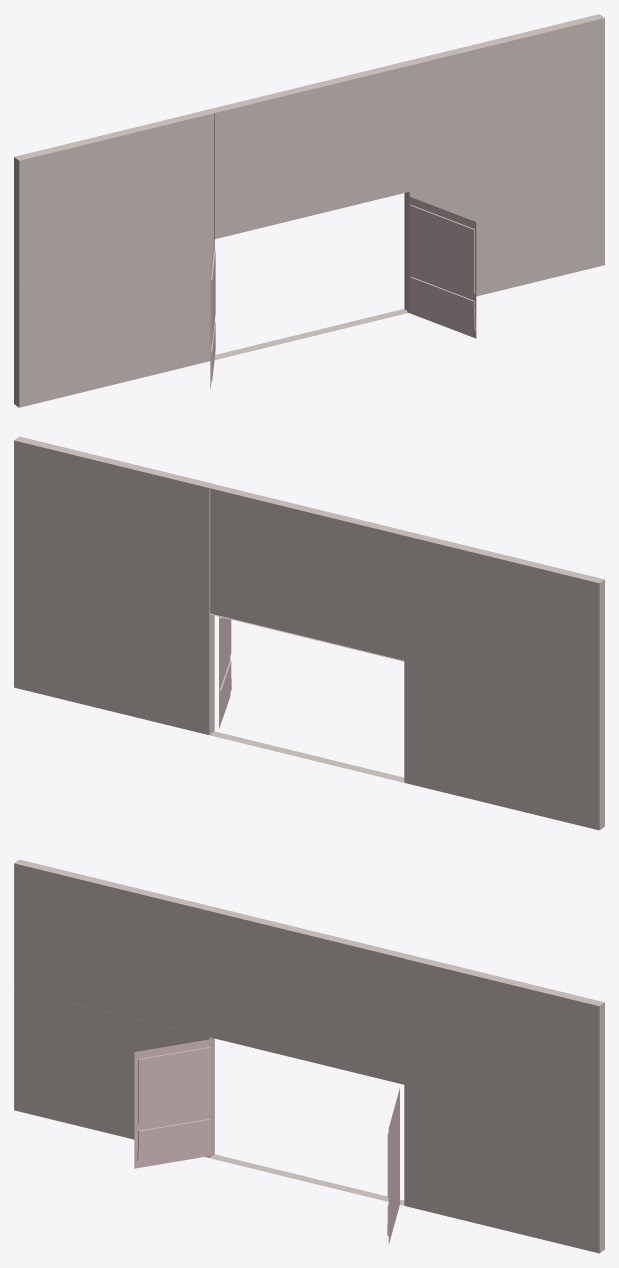
The model's file is front1.fbx.
3 renders of one model, top to bottom at view 1: azimuth 30°, elevation 25°; view 2: azimuth 150°, elevation 25°; view 3: azimuth 330°, elevation 25°, orthographic.
Parts seen in each view (by area): view 1: Cube.006, Cube.009, Cube.007; view 2: Cube.006, Cube.009; view 3: Cube.006, Cube.007, Cube.009.
Part boxes in pixels (left/top/right/bottom): Cube.006: left=14, top=14, right=604, bottom=407; Cube.009: left=407, top=196, right=476, bottom=338; Cube.007: left=210, top=243, right=215, bottom=389; Cube.006: left=14, top=436, right=604, bottom=830; Cube.009: left=219, top=617, right=231, bottom=728; Cube.006: left=14, top=859, right=604, bottom=1253; Cube.007: left=134, top=1039, right=211, bottom=1168; Cube.009: left=387, top=1088, right=399, bottom=1243.
Size of the model in its own units: 3732 by 1518 by 514.
